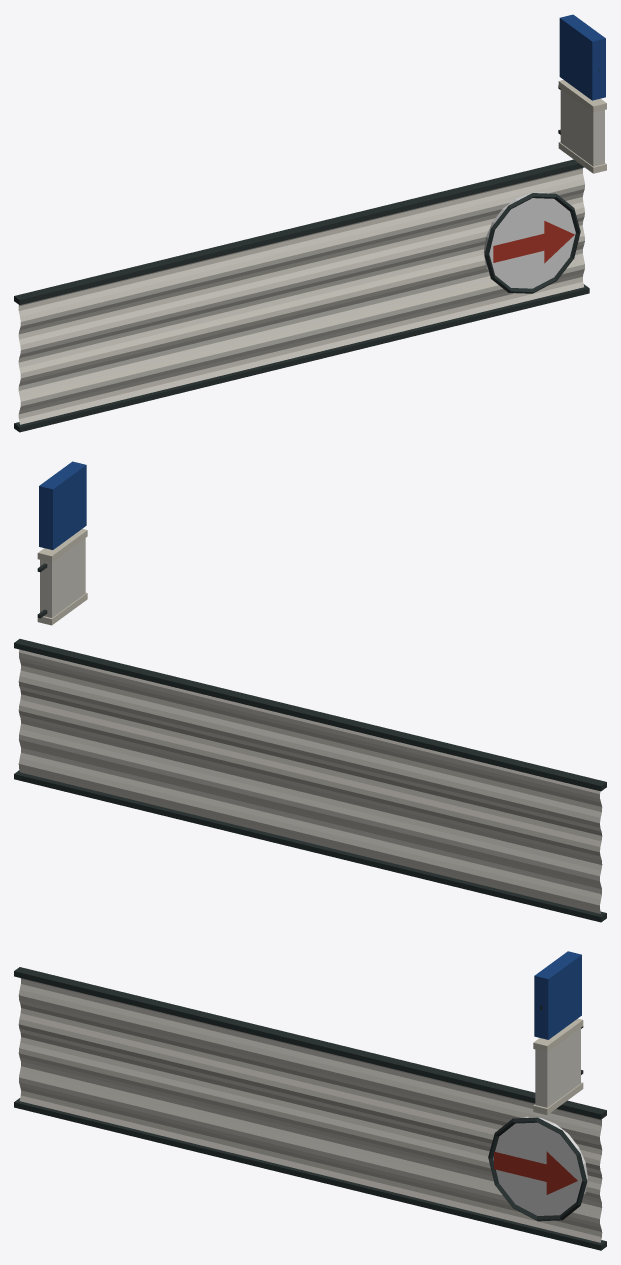
Rendered from bang_giu_xe_thang_60.glb.
The picture shows the model from 3 angles, top to bottom: view 1: azimuth 30°, elevation 25°; view 2: azimuth 150°, elevation 25°; view 3: azimuth 330°, elevation 25°; orthographic projection. The views are drawn at different scales.
Visible parts, largest first — view 1: bang_giu_xe_thang_60; view 2: bang_giu_xe_thang_60; view 3: bang_giu_xe_thang_60.
Boxes of the visible parts, box(x1,y1,x2,y2) form: bang_giu_xe_thang_60: box(14, 14, 606, 432); bang_giu_xe_thang_60: box(14, 461, 606, 922); bang_giu_xe_thang_60: box(14, 951, 606, 1250).
Size of the model in its own units: 5.86 by 2.79 by 0.72.
